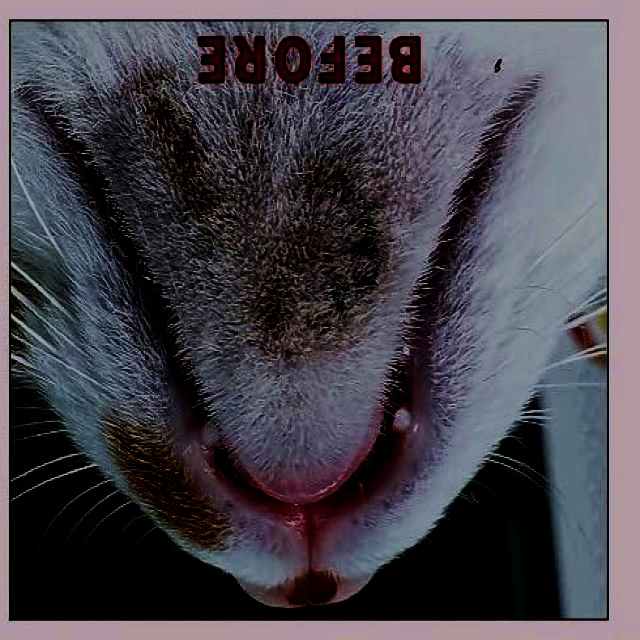acne: (222, 116, 377, 350)
